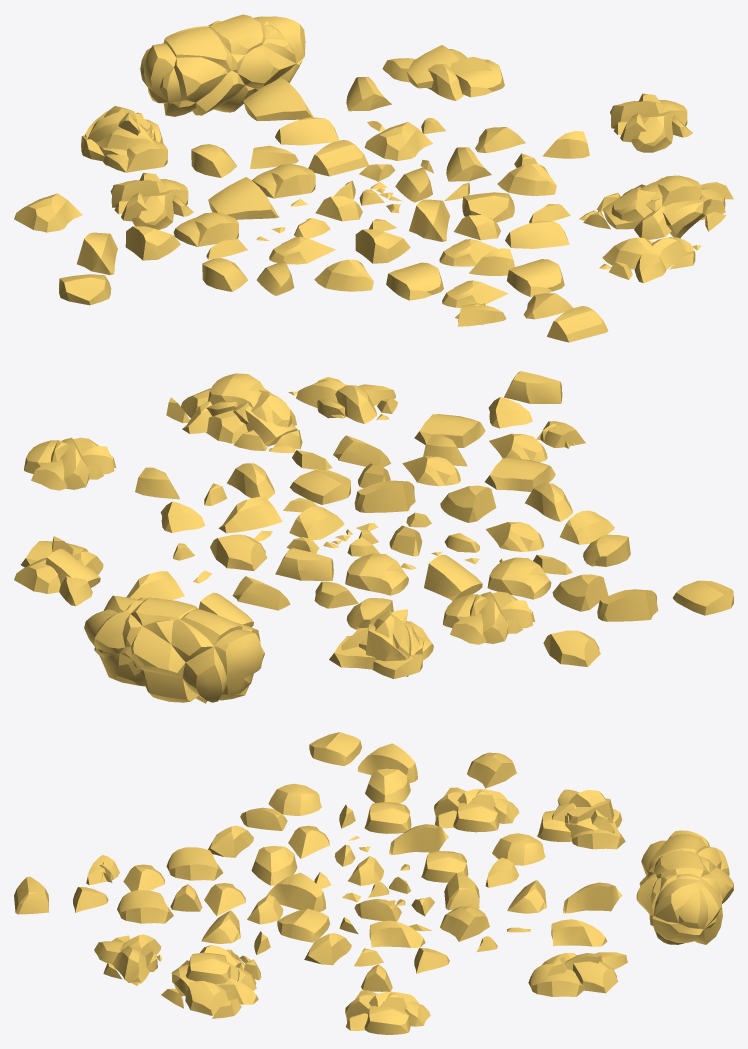
File: rukes.fbx
3 renders of one model, top to bottom at view 1: azimuth 30°, elevation 25°; view 2: azimuth 150°, elevation 25°; view 3: azimuth 270°, elevation 25°, orthographic. The views are drawn at different scales.
Visible parts, largest first — view 1: LP_B_Rocks_00_B_Rocks_00, B_Rocks_03, B_Rocks_05, B_Rocks_02, B_Rocks_01, LP_B_Rocks_01_B_Rocks_01, B_Rocks_04, Rock_06, LP_S_Rocks_all_Rock_06, Rock_07, LP_S_Rocks_all_Rock_07, Rock_05 (+33 smaller); view 2: LP_B_Rocks_00_B_Rocks_00, B_Rocks_03, B_Rocks_05, B_Rocks_02, LP_B_Rocks_01_B_Rocks_01, B_Rocks_01, B_Rocks_04, LP_S_Rocks_all_Rock_05, Rock_05, Rock_10, LP_S_Rocks_all_Rock_06, Rock_15 (+32 smaller); view 3: LP_B_Rocks_00_B_Rocks_00, B_Rocks_03, B_Rocks_05, B_Rocks_02, B_Rocks_01, LP_B_Rocks_01_B_Rocks_01, B_Rocks_04, LP_S_Rocks_all_Rock_15, Rock_10, LP_S_Rocks_all_Rock_10, LP_S_Rocks_all_Rock_16, Rock_13 (+32 smaller).
Boxes of the visible parts, bbox=[...] form: LP_B_Rocks_00_B_Rocks_00: bbox=[140, 14, 305, 116]; B_Rocks_03: bbox=[579, 175, 733, 239]; B_Rocks_05: bbox=[81, 106, 167, 172]; B_Rocks_02: bbox=[382, 45, 504, 100]; B_Rocks_01: bbox=[610, 93, 692, 152]; LP_B_Rocks_01_B_Rocks_01: bbox=[110, 172, 193, 229]; B_Rocks_04: bbox=[599, 237, 701, 283]; Rock_06: bbox=[243, 78, 313, 121]; LP_S_Rocks_all_Rock_06: bbox=[208, 177, 279, 219]; Rock_07: bbox=[14, 193, 82, 232]; LP_S_Rocks_all_Rock_07: bbox=[364, 122, 432, 160]; Rock_05: bbox=[173, 212, 238, 246]; LP_B_Rocks_00_B_Rocks_00: bbox=[84, 595, 264, 703]; B_Rocks_03: bbox=[166, 373, 302, 452]; B_Rocks_05: bbox=[329, 609, 433, 678]; B_Rocks_02: bbox=[14, 536, 103, 606]; LP_B_Rocks_01_B_Rocks_01: bbox=[443, 591, 534, 644]; B_Rocks_01: bbox=[24, 437, 116, 490]; B_Rocks_04: bbox=[288, 377, 397, 423]; LP_S_Rocks_all_Rock_05: bbox=[345, 553, 408, 595]; Rock_05: bbox=[487, 557, 551, 599]; Rock_10: bbox=[485, 458, 555, 491]; LP_S_Rocks_all_Rock_06: bbox=[424, 554, 482, 600]; Rock_15: bbox=[597, 589, 658, 621]; LP_B_Rocks_00_B_Rocks_00: bbox=[636, 830, 733, 944]; B_Rocks_03: bbox=[161, 945, 261, 1018]; B_Rocks_05: bbox=[537, 789, 625, 849]; B_Rocks_02: bbox=[528, 952, 627, 996]; B_Rocks_01: bbox=[345, 990, 430, 1034]; LP_B_Rocks_01_B_Rocks_01: bbox=[434, 787, 519, 832]; B_Rocks_04: bbox=[94, 934, 162, 985]; LP_S_Rocks_all_Rock_15: bbox=[266, 872, 326, 911]; Rock_10: bbox=[166, 847, 222, 880]; LP_S_Rocks_all_Rock_10: bbox=[117, 890, 173, 923]; LP_S_Rocks_all_Rock_16: bbox=[251, 846, 297, 885]; Rock_13: bbox=[309, 732, 361, 765].
Bounding box in the file's own units: 541 × 67.68 × 556.
